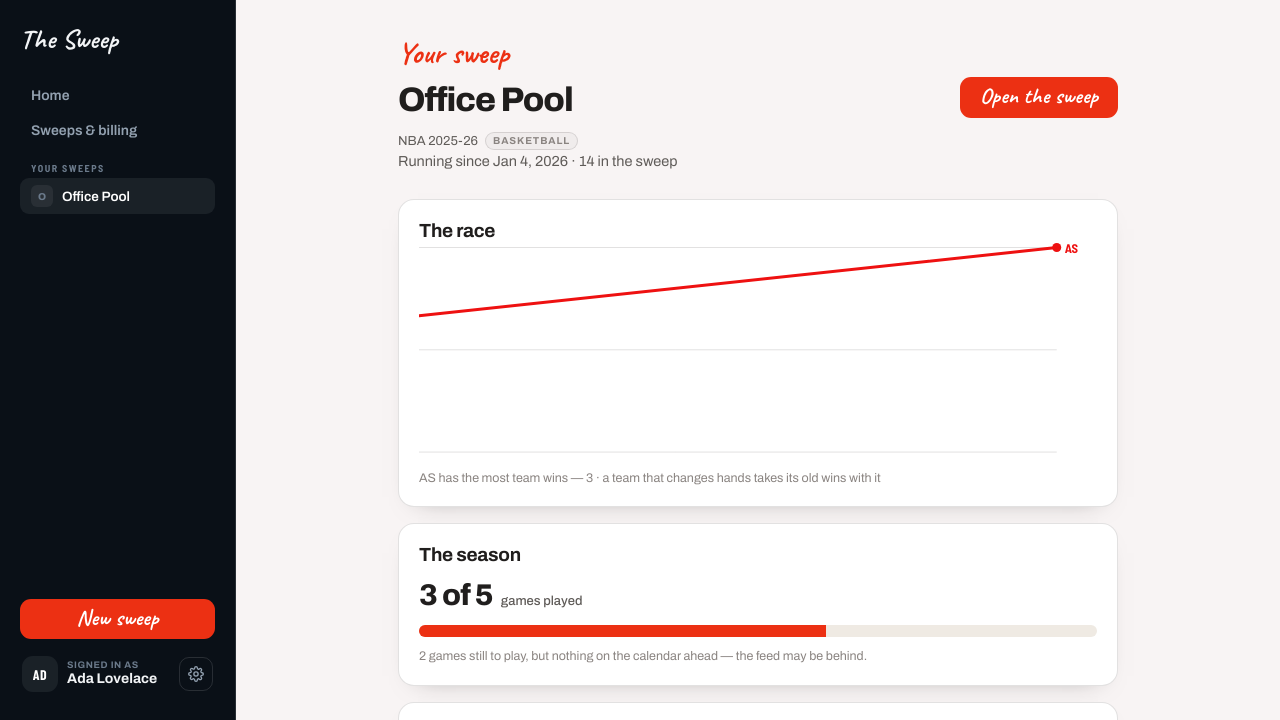
Test case: a lapsed owner is told why the rename did not take, not just that it failed
Replace the text in the field named "sweep name" with "The Lads" at (666, 100), box [389,78,944,121]
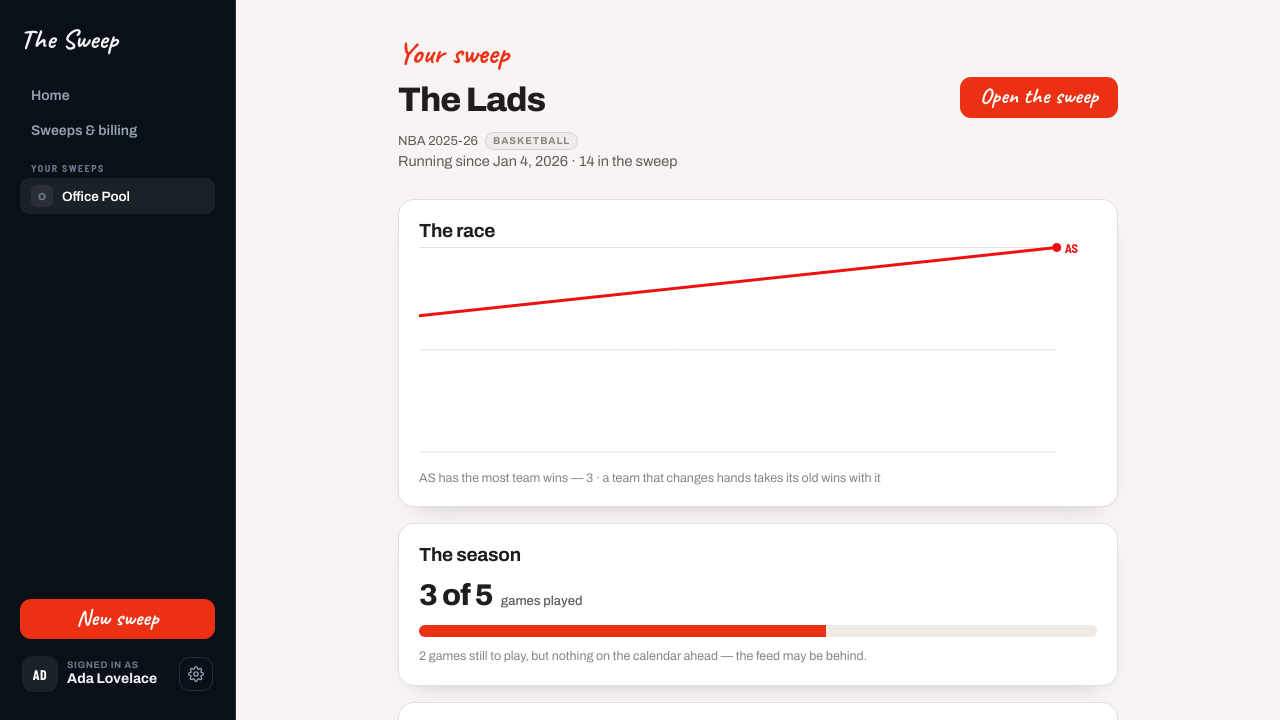
Leave the field named "sweep name", box [389,78,944,121]
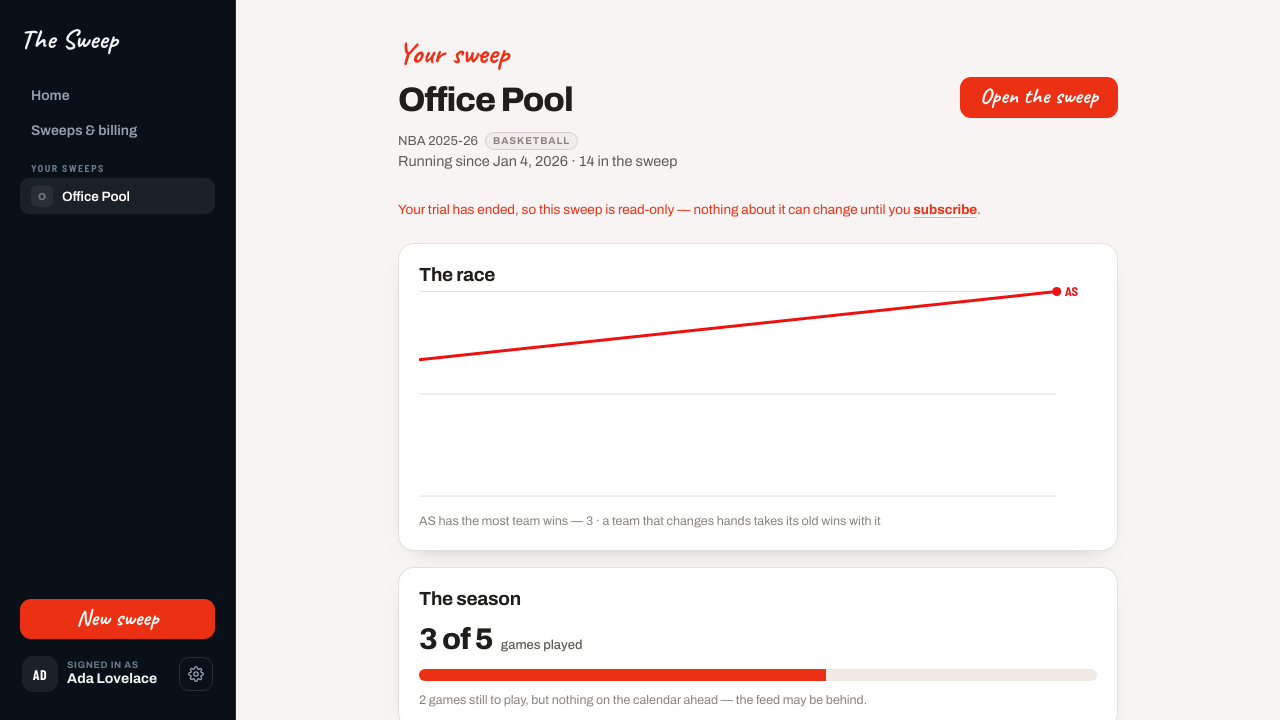
Result: the text "read-only" is shown at [398,202,913,217]
